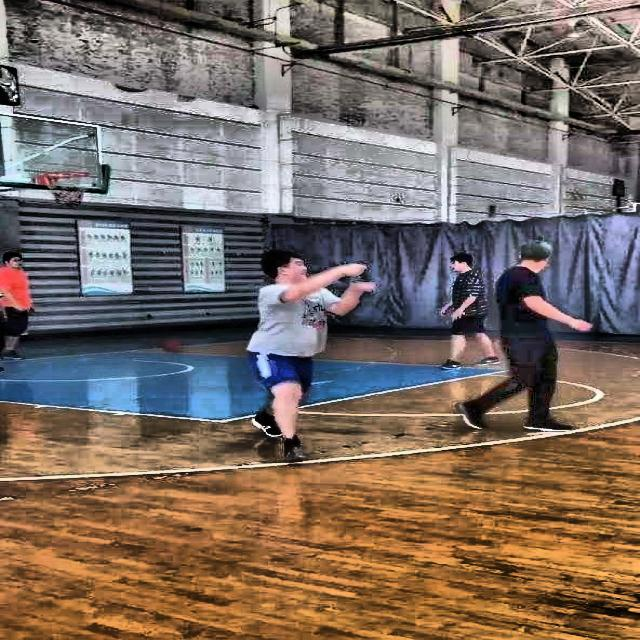board: (162, 339, 182, 352)
